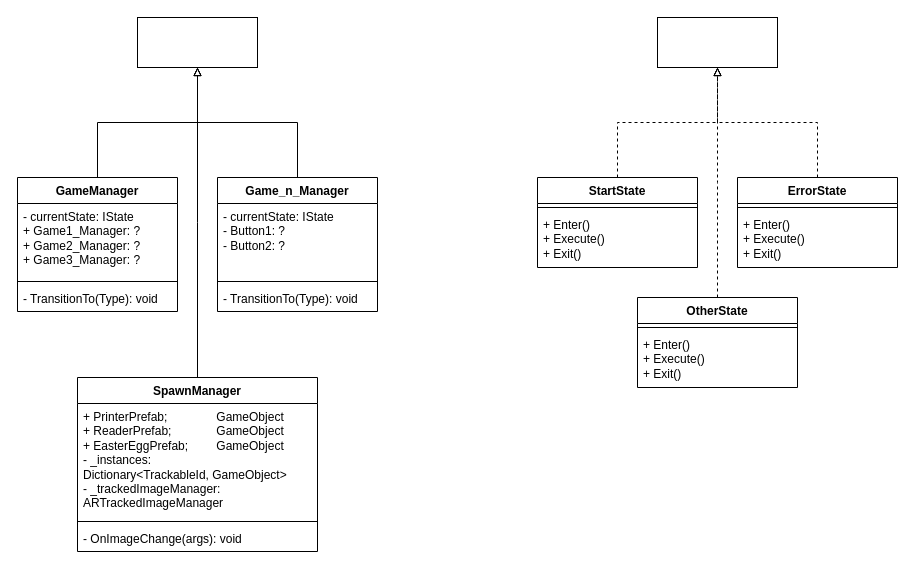
The diagram is 915 pixels wide and 572 high, and some of its shapes have lost their labels. Here are the shapes that lost their labels. From the top down, the centre of each, then its label:
At (x=197, y=42): "MonoBehavior".
At (x=717, y=42): "«interface» IState".
